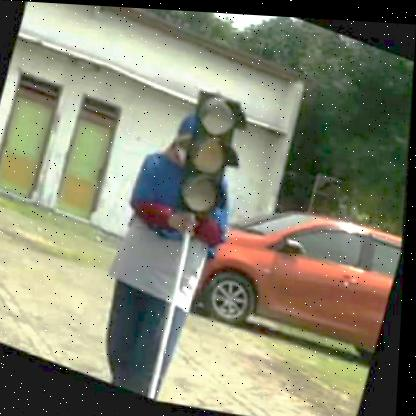Traffic Light -Yellow-: (170, 88, 255, 232)
